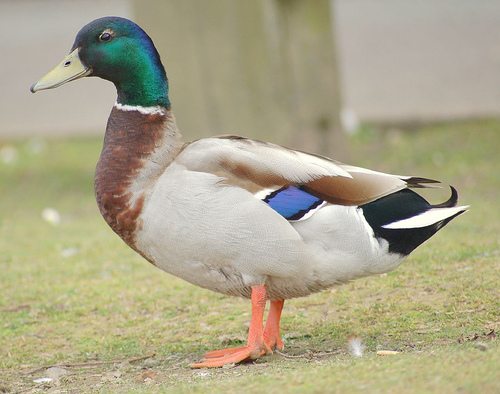duck: (23, 7, 479, 383)
